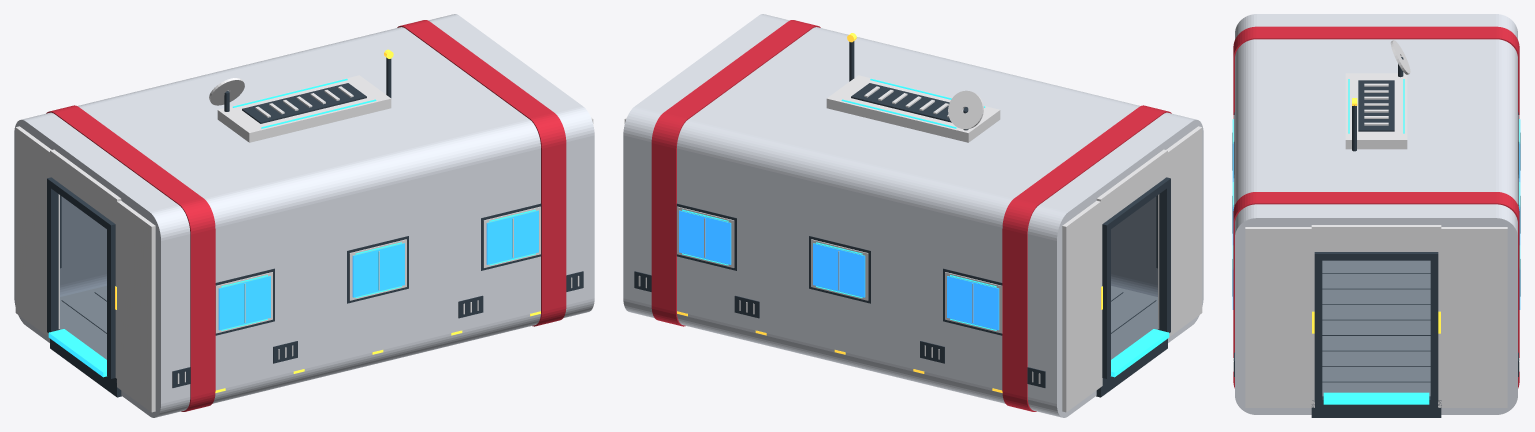
The model's file is habitat_sin_rampas.glb.
The picture shows the model from 3 angles, left to right: view 1: azimuth 30°, elevation 25°; view 2: azimuth 150°, elevation 25°; view 3: azimuth 270°, elevation 25°; orthographic projection. The views are drawn at different scales.
Parts seen in each view (by area): view 1: Outer pressure hull, Red circumferential band 8.9, Red circumferential band -8.9, End -1 right bulkhead, End -1 left bulkhead, Roof equipment spine, Interior pressure lining, Continuous walkable interior deck, Window 1 2 smart glass, Window 1 1 smart glass, Window 1 3 smart glass, End -1 upper bulkhead (+12 smaller); view 2: Outer pressure hull, Red circumferential band 8.9, Red circumferential band -8.9, End -1 left bulkhead, End -1 right bulkhead, Interior pressure lining, Roof equipment spine, Continuous walkable interior deck, Window -1 2 smart glass, Window -1 1 smart glass, Window -1 3 smart glass, End -1 upper bulkhead (+12 smaller); view 3: Outer pressure hull, Continuous walkable interior deck, End 1 left bulkhead, End 1 right bulkhead, Red circumferential band 8.9, Red circumferential band -8.9, End 1 upper bulkhead, Roof equipment spine, End 1 lower bulkhead, Roof spine dark inset, Threshold 1, Door 1 right jamb (+3 smaller).
Boxes of the visible parts, x1=… form: Outer pressure hull: x1=14, y1=14, x2=594, y2=417; Red circumferential band 8.9: x1=397, y1=20, x2=566, y2=326; Red circumferential band -8.9: x1=46, y1=105, x2=215, y2=411; End -1 right bulkhead: x1=115, y1=200, x2=155, y2=412; End -1 left bulkhead: x1=15, y1=126, x2=59, y2=336; Roof equipment spine: x1=217, y1=75, x2=391, y2=142; Interior pressure lining: x1=60, y1=196, x2=106, y2=296; Continuous walkable interior deck: x1=60, y1=286, x2=106, y2=359; Window 1 2 smart glass: x1=352, y1=243, x2=404, y2=297; Window 1 1 smart glass: x1=218, y1=276, x2=270, y2=330; Window 1 3 smart glass: x1=486, y1=210, x2=538, y2=264; End -1 upper bulkhead: x1=50, y1=149, x2=121, y2=226; Outer pressure hull: x1=623, y1=14, x2=1203, y2=417; Red circumferential band 8.9: x1=651, y1=20, x2=820, y2=326; Red circumferential band -8.9: x1=1002, y1=105, x2=1171, y2=411; End -1 left bulkhead: x1=1062, y1=200, x2=1102, y2=412; End -1 right bulkhead: x1=1158, y1=126, x2=1202, y2=336; Interior pressure lining: x1=1111, y1=196, x2=1157, y2=296; Roof equipment spine: x1=826, y1=75, x2=1000, y2=142; Continuous walkable interior deck: x1=1111, y1=286, x2=1157, y2=359; Window -1 2 smart glass: x1=813, y1=243, x2=865, y2=297; Window -1 1 smart glass: x1=947, y1=276, x2=999, y2=330; Window -1 3 smart glass: x1=679, y1=210, x2=731, y2=264; End -1 upper bulkhead: x1=1096, y1=149, x2=1167, y2=223; Outer pressure hull: x1=1235, y1=14, x2=1517, y2=414; Continuous walkable interior deck: x1=1322, y1=260, x2=1430, y2=396; End 1 left bulkhead: x1=1438, y1=227, x2=1507, y2=407; End 1 right bulkhead: x1=1245, y1=227, x2=1314, y2=407; Red circumferential band 8.9: x1=1233, y1=192, x2=1519, y2=388; Red circumferential band -8.9: x1=1233, y1=26, x2=1519, y2=118; End 1 upper bulkhead: x1=1311, y1=225, x2=1441, y2=254; Roof equipment spine: x1=1345, y1=73, x2=1407, y2=149; End 1 lower bulkhead: x1=1311, y1=396, x2=1441, y2=417; Roof spine dark inset: x1=1358, y1=80, x2=1394, y2=131; Threshold 1: x1=1323, y1=392, x2=1429, y2=404; Door 1 right jamb: x1=1314, y1=257, x2=1322, y2=402.
Bounding box in the file's own units: 23.2 × 12.56 × 13.16.
